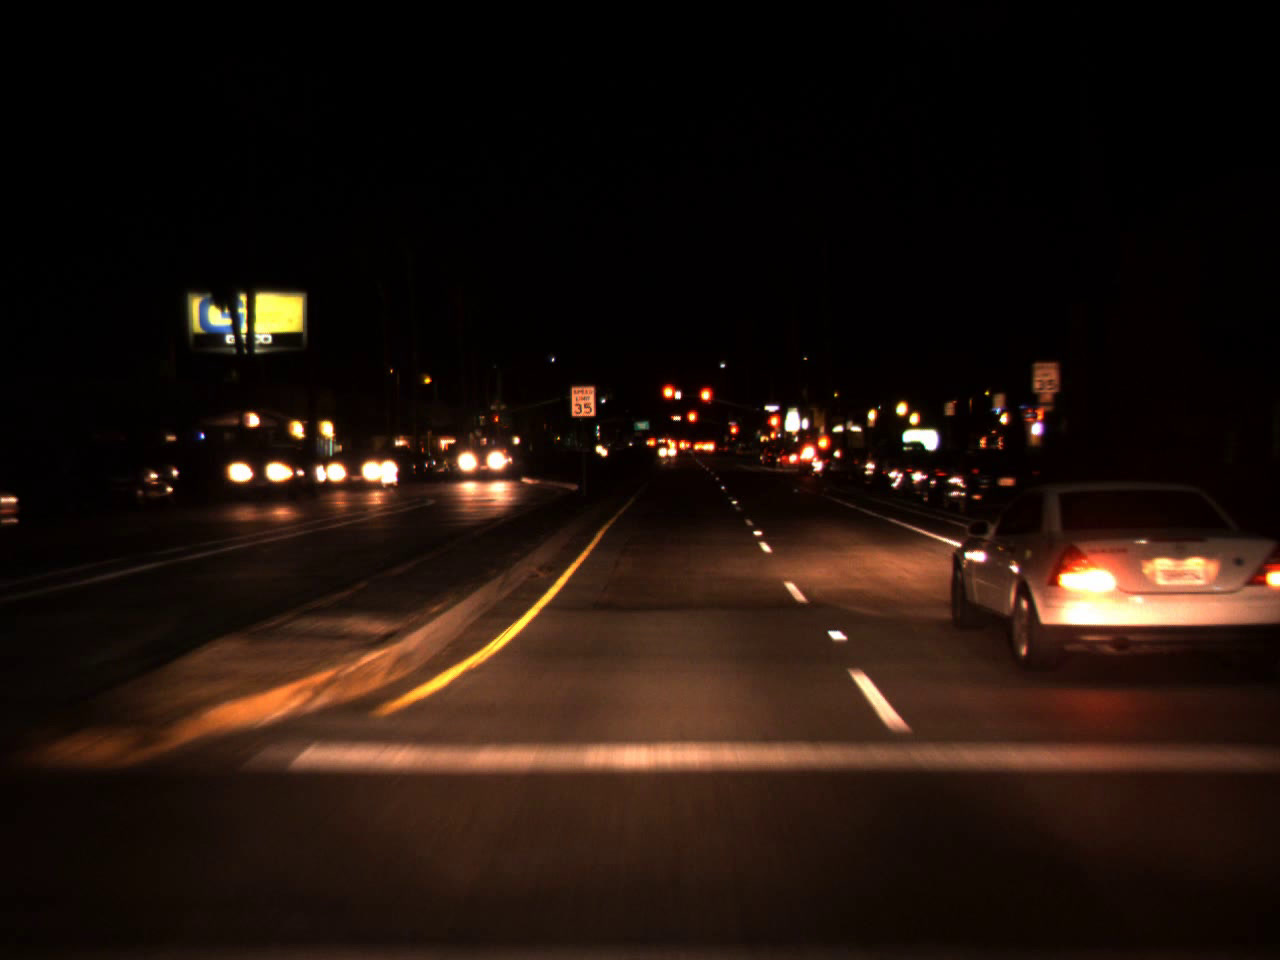stop: (765, 410, 783, 450), (659, 381, 678, 416), (697, 384, 715, 421), (685, 409, 698, 436), (729, 421, 738, 448), (493, 414, 499, 427)
